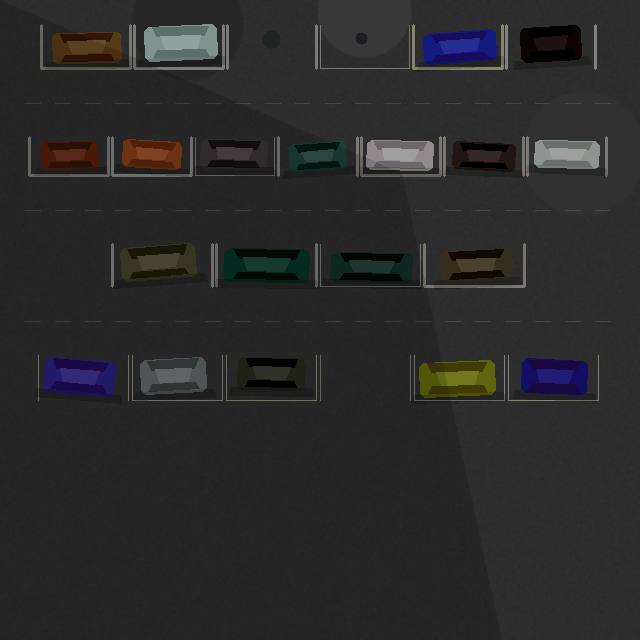space-empty: (320, 355, 410, 400), (227, 25, 316, 68), (320, 25, 409, 68)
space-occupied: (112, 244, 212, 286), (216, 244, 316, 286), (320, 244, 420, 286), (424, 244, 524, 286), (38, 355, 128, 400), (132, 355, 222, 400), (226, 355, 316, 400), (414, 355, 504, 400), (508, 355, 598, 400), (41, 25, 130, 68), (134, 25, 223, 68), (413, 25, 502, 68), (506, 25, 595, 68), (29, 137, 108, 175), (112, 137, 191, 175), (195, 137, 274, 175), (278, 137, 357, 175), (361, 137, 440, 175), (444, 137, 523, 175), (527, 137, 606, 175)
